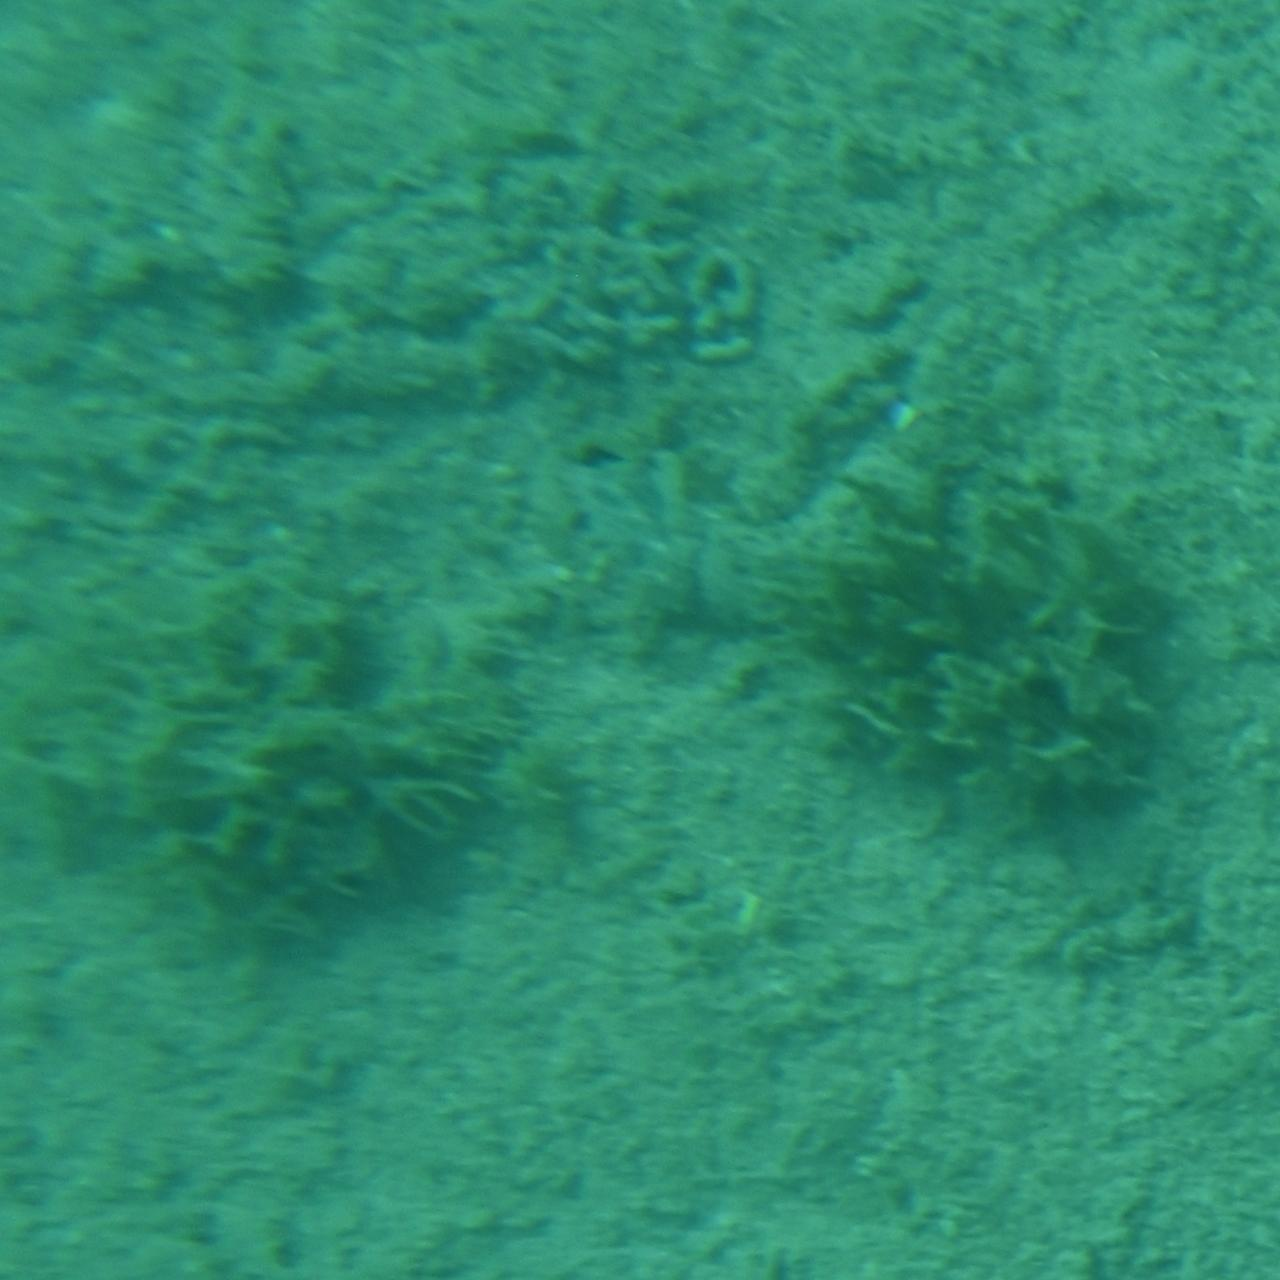Holothuria tubulosa: (707, 338, 1042, 651)
Phaeophyceae -cfr Cystoseira-: (26, 601, 522, 971), (721, 478, 1235, 811)
